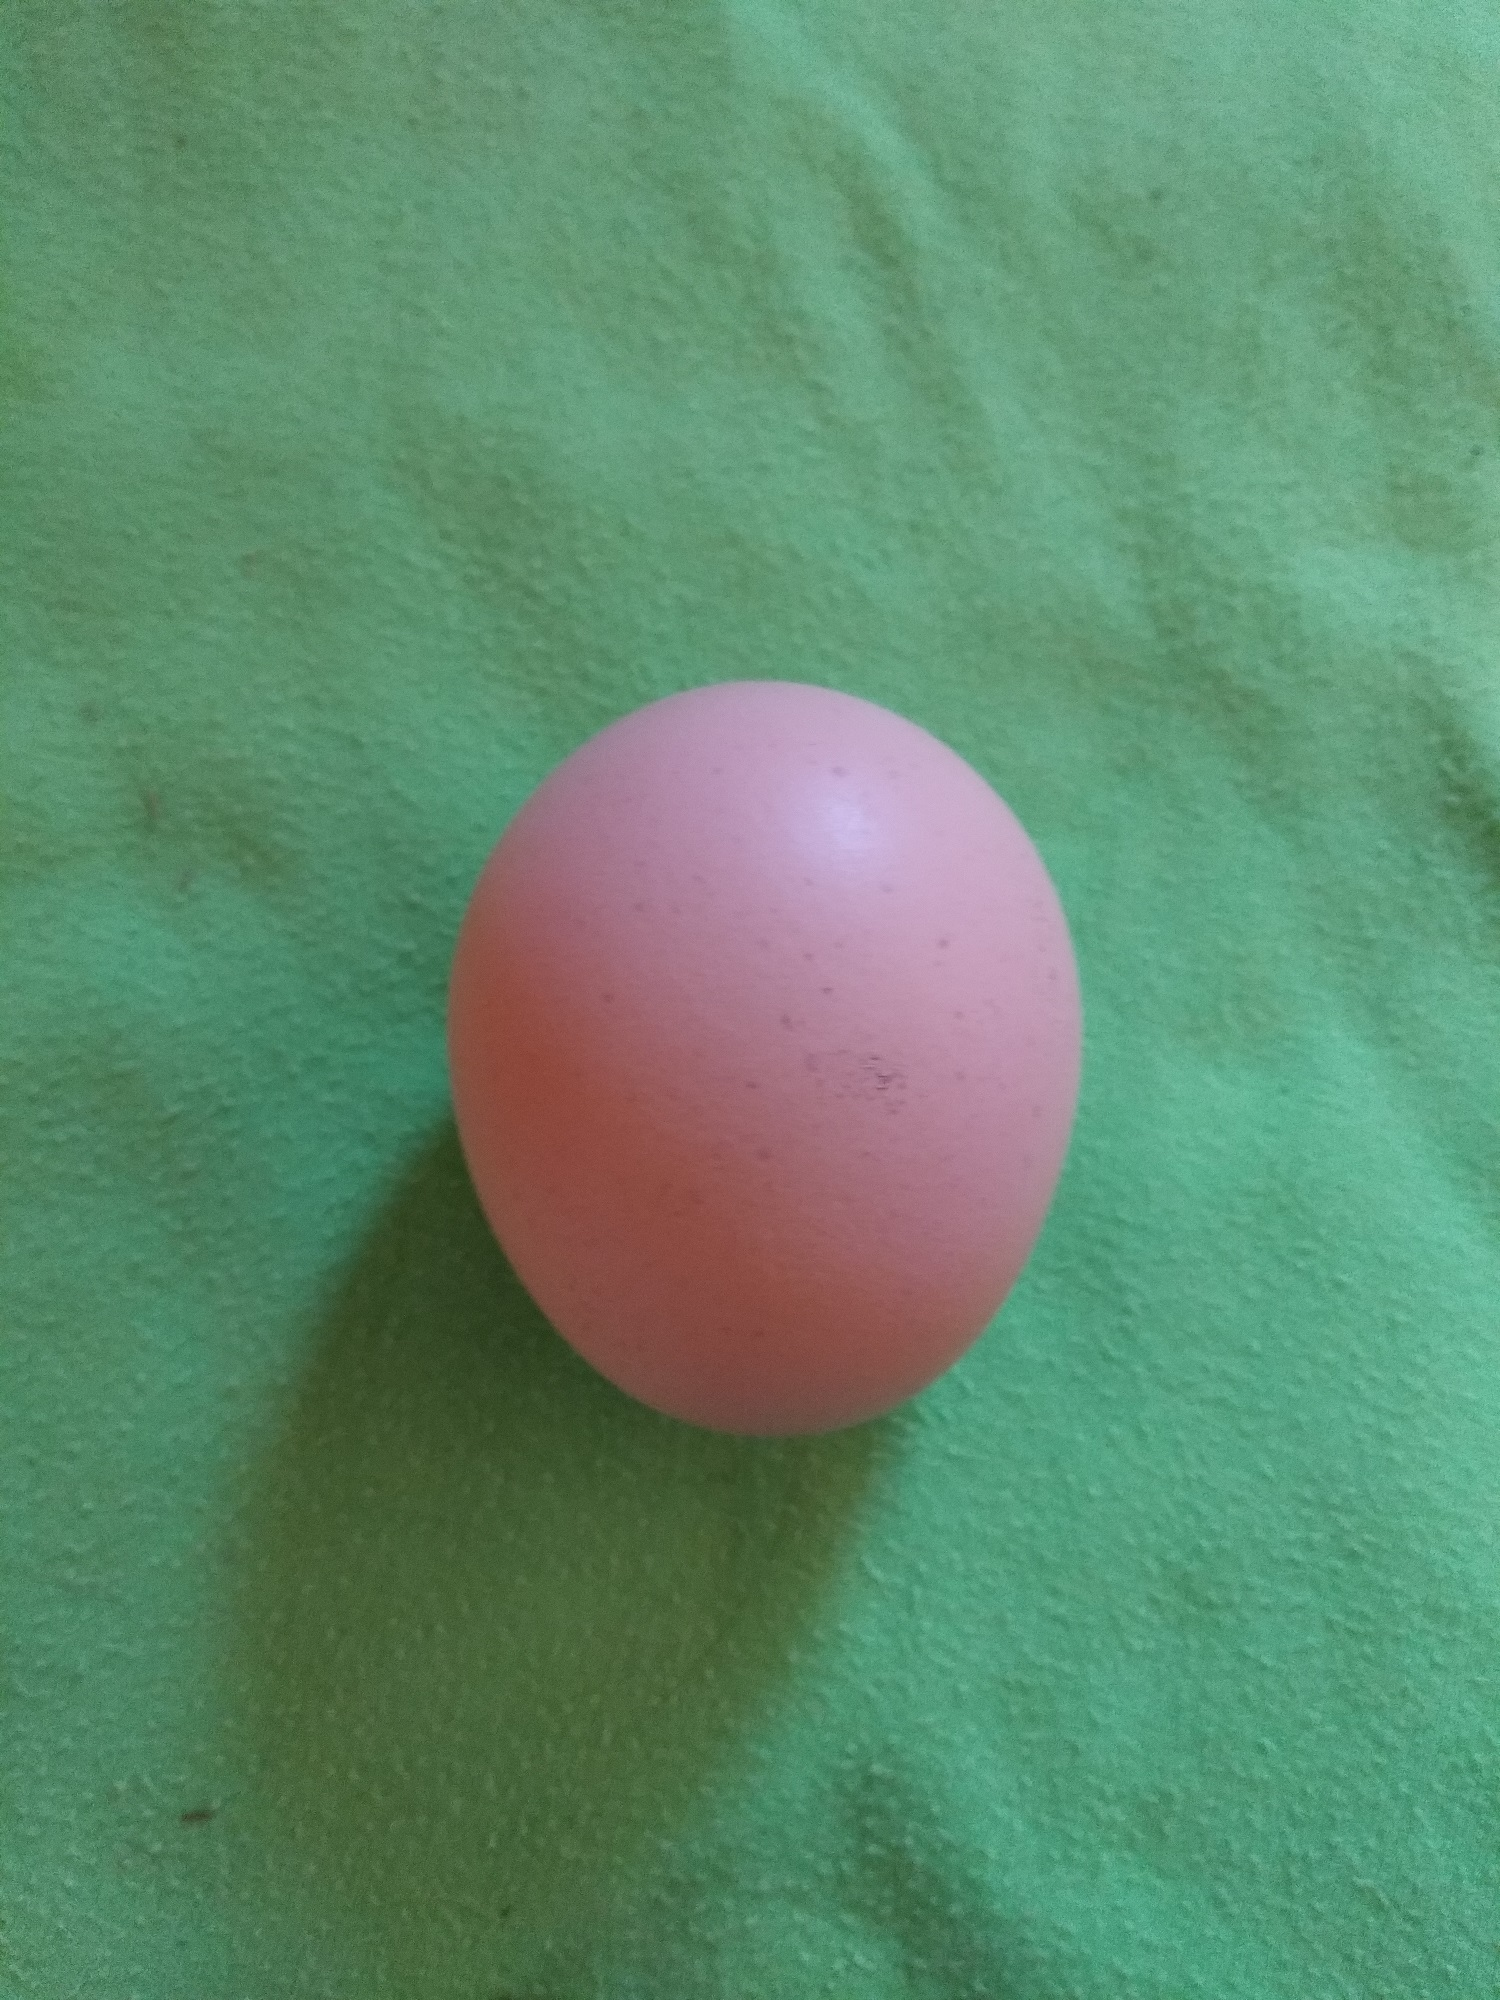Female: (440, 676, 1097, 1444)
